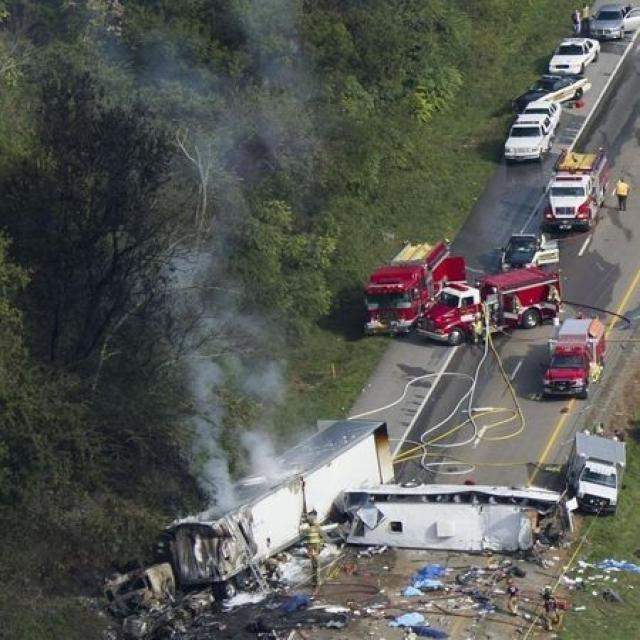traffic_incident: (107, 414, 566, 630)
